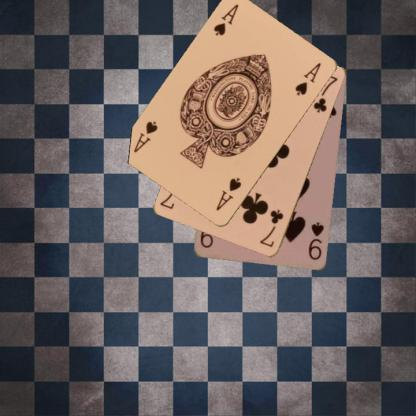7c: (257, 207, 285, 249)
9s: (306, 219, 326, 262)
As: (213, 174, 243, 212), (211, 2, 240, 38)
